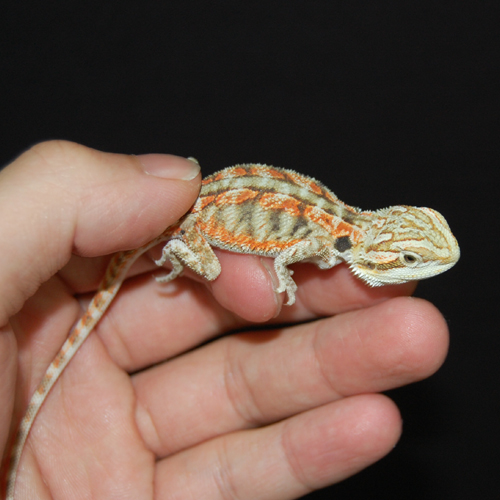bearded: (17, 156, 465, 500)
